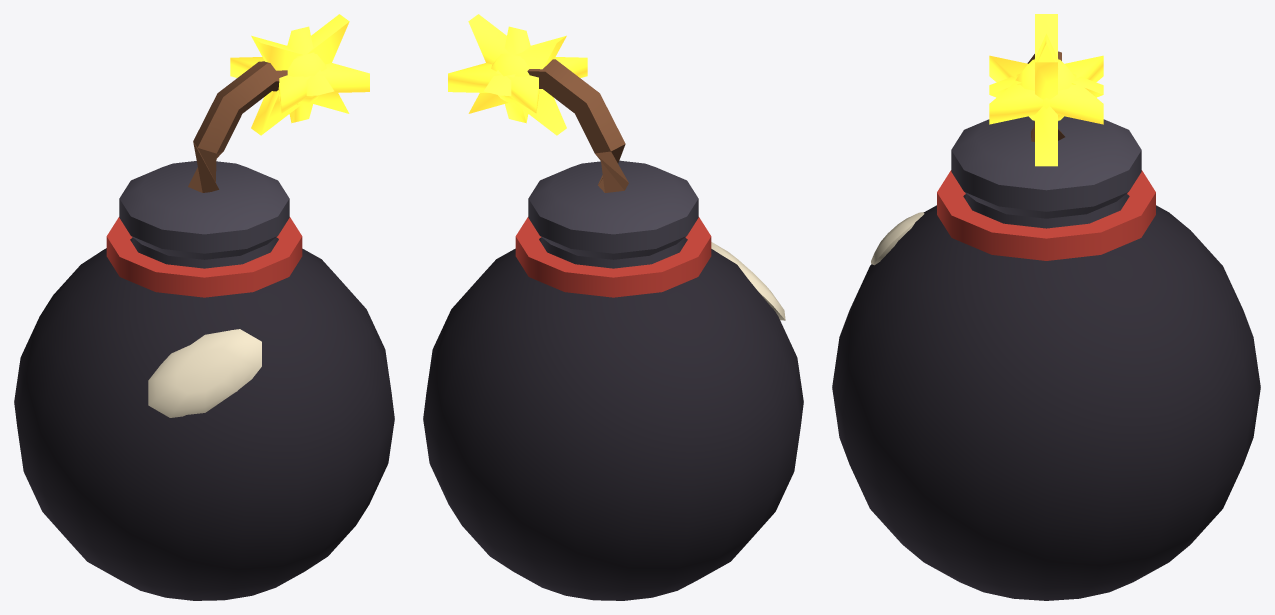
The model's file is bomb.glb.
The picture shows the model from 3 angles, left to right: view 1: azimuth 30°, elevation 25°; view 2: azimuth 150°, elevation 25°; view 3: azimuth 270°, elevation 25°; orthographic projection. The views are drawn at different scales.
Visible parts, largest first — view 1: Bomb, EmitSpark, Fuse; view 2: Bomb, EmitSpark, Fuse; view 3: Bomb, EmitSpark.
Boxes of the visible parts, bbox=[...] form: Bomb: bbox=[14, 161, 394, 600]; EmitSpark: bbox=[230, 14, 369, 135]; Fuse: bbox=[188, 61, 287, 192]; Bomb: bbox=[423, 160, 803, 600]; EmitSpark: bbox=[448, 14, 587, 135]; Fuse: bbox=[527, 59, 628, 192]; Bomb: bbox=[832, 116, 1260, 600]; EmitSpark: bbox=[989, 14, 1103, 166].
Bounding box in the file's own units: 0.45 × 0.6901 × 0.45.
